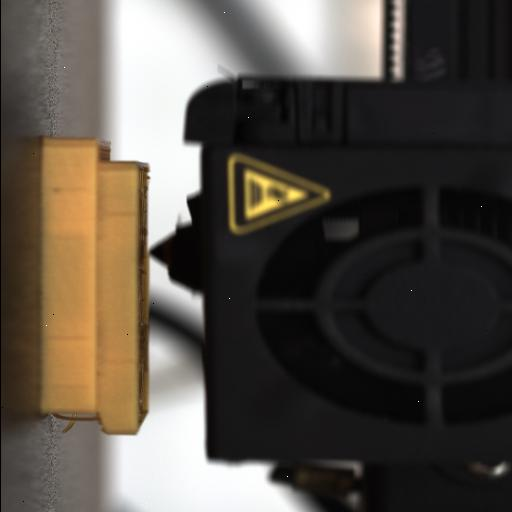layer_shift: (85, 136, 110, 436)
